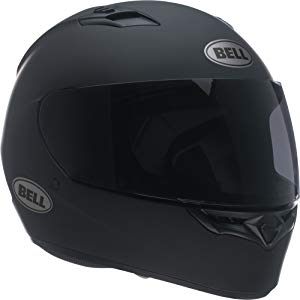with_helmet: (1, 1, 300, 296)
